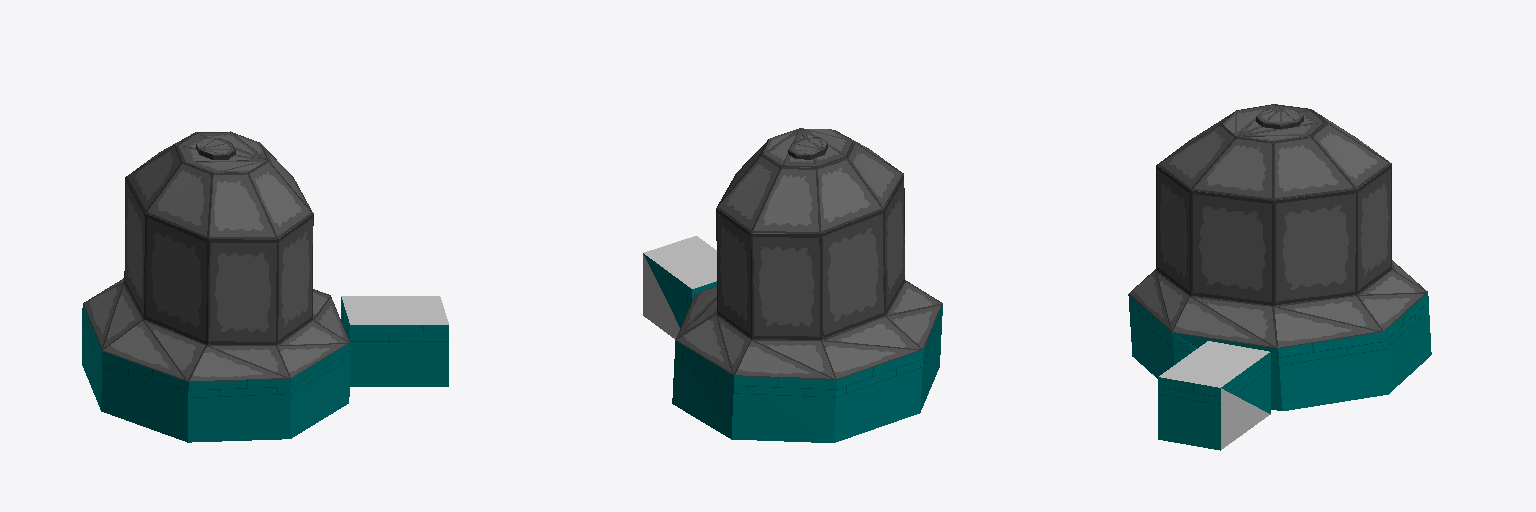
3 renders of one model, left to right at view 1: azimuth 30°, elevation 25°; view 2: azimuth 150°, elevation 25°; view 3: azimuth 270°, elevation 25°, orthographic.
Parts seen in each view (by area): view 1: skin, wall, ungrouped; view 2: skin, wall, ungrouped; view 3: skin, wall, ungrouped.
Part boxes in pixels (x1,y1,x2,y2): skin: (83,131,349,381); wall: (82,297,448,442); ungrouped: (341,296,448,324); skin: (675,128,942,379); wall: (643,253,942,442); ungrouped: (643,236,716,339); skin: (1129,104,1427,348); wall: (1128,293,1431,450); ungrouped: (1159,341,1270,449).
Size of the model in its own units: 111 by 82.04 by 93.94.
2 materials, 2 textured.